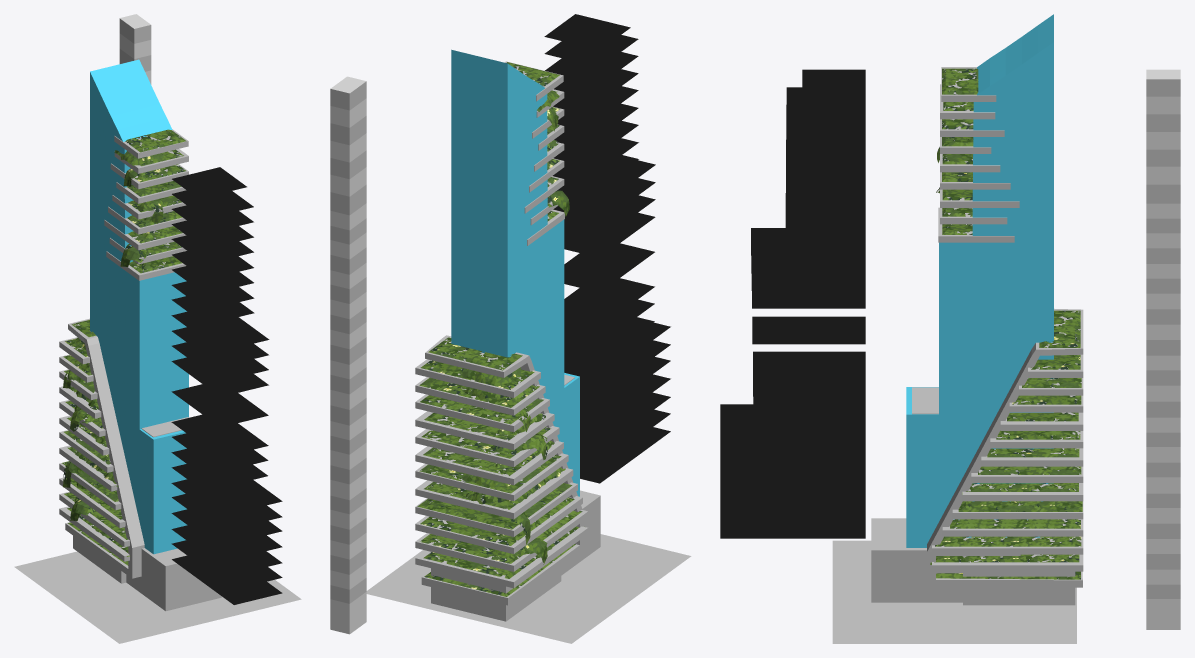
File: CenterBuilding 2.fbx
3 views of the same model, side by side, from view 1: azimuth 30°, elevation 25°; view 2: azimuth 150°, elevation 25°; view 3: azimuth 270°, elevation 25° (orthographic). The views are drawn at different scales.
Parts seen in each view (by area): view 1: base.002, base.001, Cube.003, Plane.001, Plane, Cube.004, base.003, Cube.001, Cube.005; view 2: base.002, base.001, Cube.003, Cube.005, Plane.001, Plane, base.003, Cube.001, Cube.004; view 3: base.002, base.001, Cube.005, Cube.003, Plane.001, Plane, Cube.001, Cube.004, base.003, base.
Boxes of the visible parts, x1,y1,x2,y2 form: base.002: (171,167,282,604); base.001: (90,120,188,554); Cube.003: (59,318,144,578); Plane.001: (62,129,186,565); Plane: (14,551,301,643); Cube.004: (104,129,188,280); base.003: (90,59,172,141); Cube.001: (73,535,222,611); Cube.005: (119,14,151,84); base.002: (544,14,670,483); base.001: (451,94,579,496); Cube.003: (415,335,588,605); Cube.005: (330,76,366,634); Plane.001: (417,62,582,596); Plane: (366,534,691,643); base.003: (451,49,544,117); Cube.001: (431,490,600,621); Cube.004: (505,61,564,245); base.002: (720,69,865,538); base.001: (906,97,1053,547); Cube.005: (1146,69,1180,629); Cube.003: (927,308,1083,587); Plane.001: (930,68,1082,579); Plane: (832,540,1076,643); Cube.001: (871,518,1075,605); Cube.004: (938,67,1019,242); base.003: (977,14,1053,97); base: (912,387,938,414).
Bounding box in the file's own units: 378 × 962 × 711.
